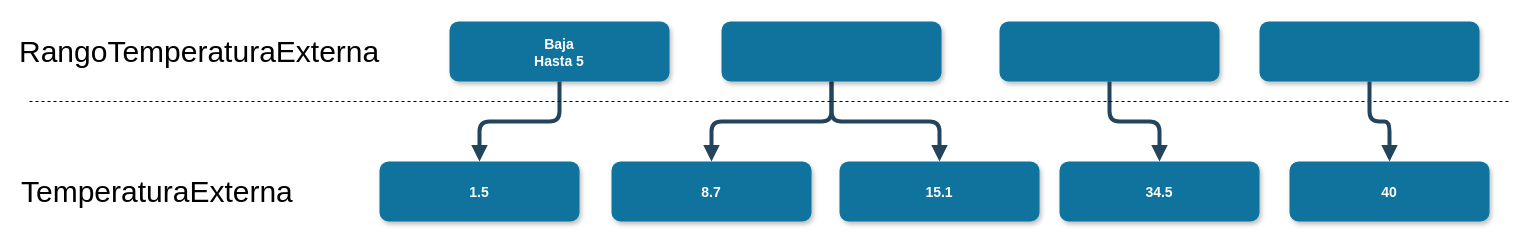
Some shapes in this 1528 by 245 pixel diagram are drawn without their labels. The centre of each missing label's shape, as x and y in pixels:
"Alta 20-35" belongs at pixel 1110 52.
"Media 5-20" belongs at pixel 832 52.
"Muy Alta Desde 35" belongs at pixel 1370 52.
